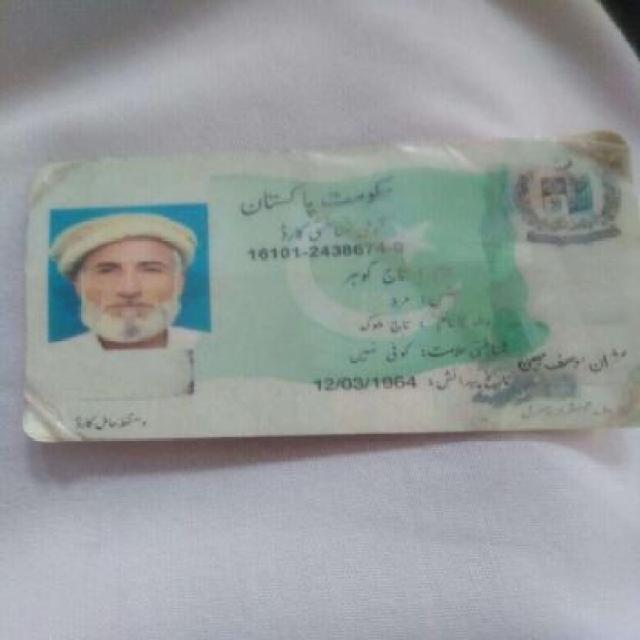Front: (23, 137, 637, 446)
